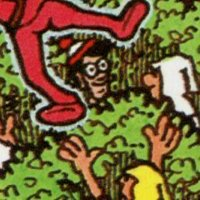waldo: (76, 38, 108, 102)
